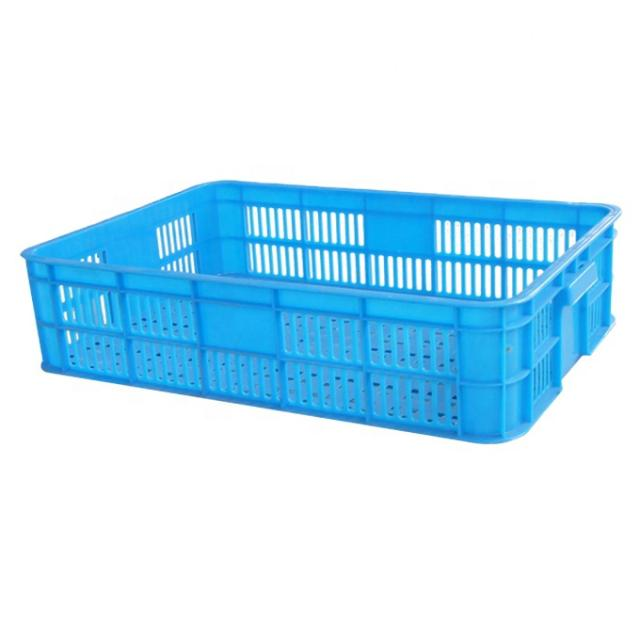basket: (12, 170, 622, 451)
